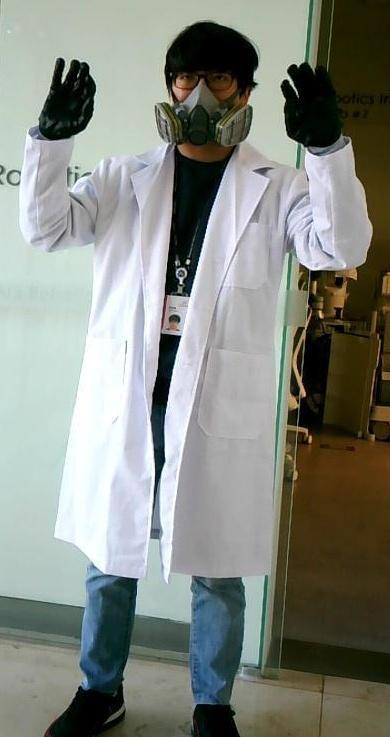lab_coat: (20, 142, 356, 558)
